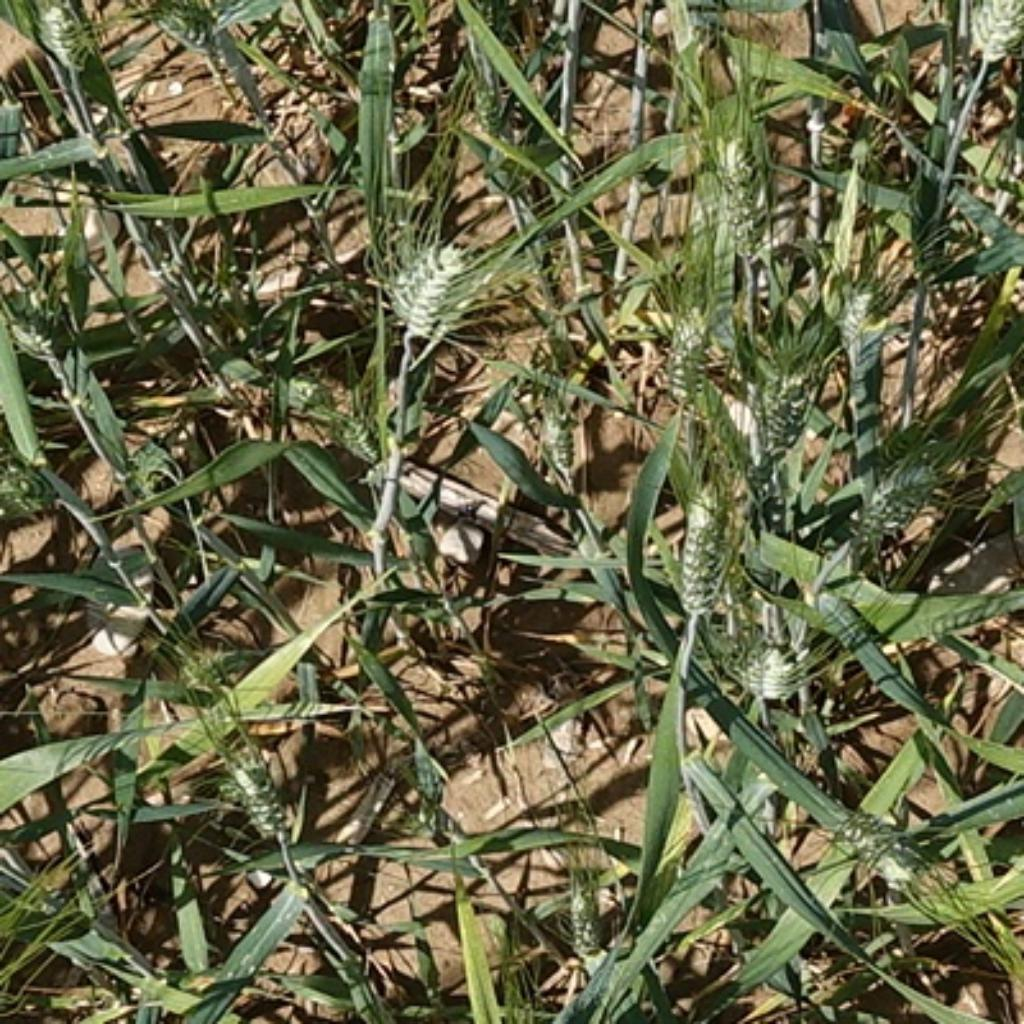0-0: (737, 307, 834, 453), (663, 463, 755, 611), (847, 448, 952, 545), (837, 806, 947, 898), (383, 229, 474, 339), (212, 724, 299, 837), (700, 113, 764, 264), (655, 281, 727, 399), (2, 268, 74, 378), (555, 855, 622, 952), (519, 381, 583, 478), (317, 396, 394, 476), (28, 2, 102, 84), (729, 637, 806, 704), (171, 629, 250, 691), (837, 271, 885, 371), (460, 58, 522, 133), (0, 465, 66, 524), (962, 2, 1024, 61)
